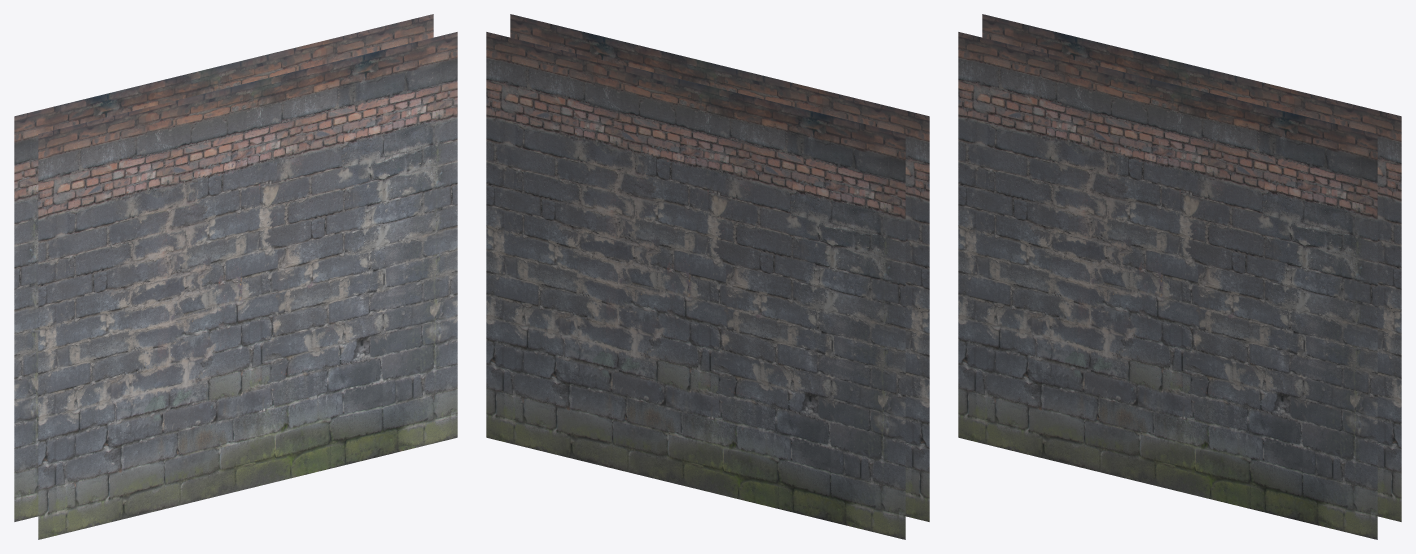
The model's file is sm_Wall_06_40.fbx.
3 renders of one model, left to right at view 1: azimuth 30°, elevation 25°; view 2: azimuth 150°, elevation 25°; view 3: azimuth 330°, elevation 25°, orthographic.
Visible parts, largest first — view 1: sm_Wall_06_40_LOD0; view 2: sm_Wall_06_40_LOD0; view 3: sm_Wall_06_40_LOD0.
Boxes of the visible parts, x1,y1,x2,y2 form: sm_Wall_06_40_LOD0: (14,14,457,539); sm_Wall_06_40_LOD0: (486,14,929,539); sm_Wall_06_40_LOD0: (958,14,1401,539).
Size of the model in its own units: 40 by 400 by 370.
